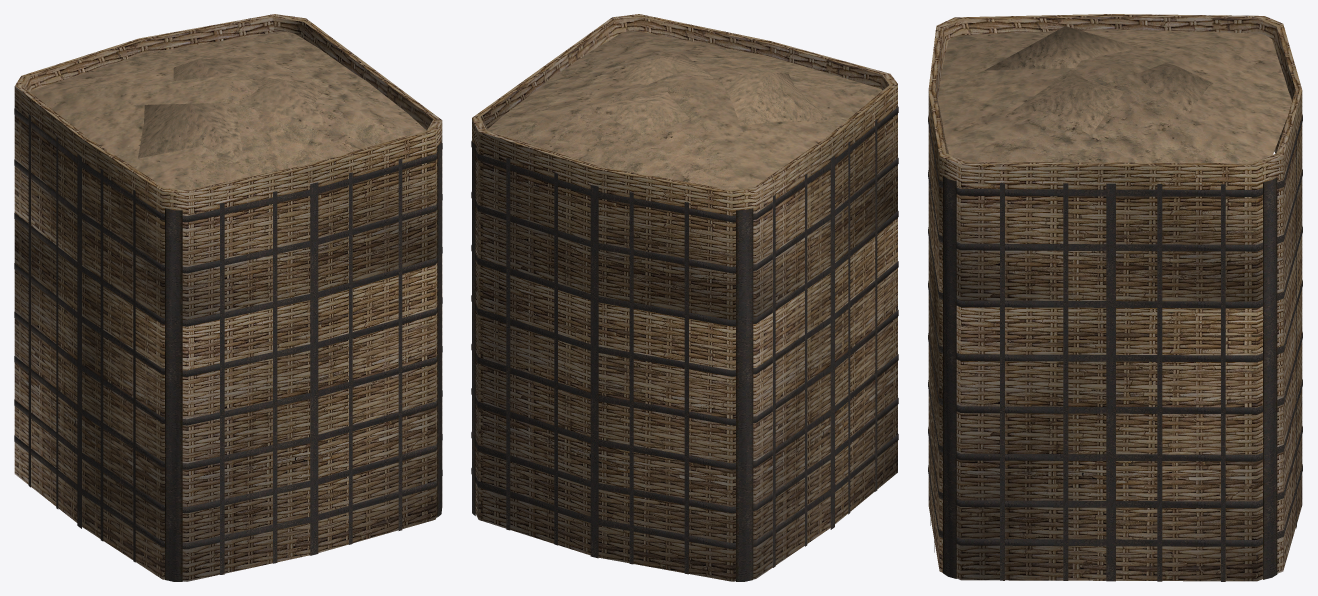
File: Cover_BcSd02.glb
3 views of the same model, side by side, from view 1: azimuth 30°, elevation 25°; view 2: azimuth 150°, elevation 25°; view 3: azimuth 270°, elevation 25° (orthographic). The views are drawn at different scales.
Parts seen in each view (by area): view 1: xiutz_bc_sd_02_0; view 2: xiutz_bc_sd_02_0; view 3: xiutz_bc_sd_02_0.
Boxes of the visible parts, x1,y1,x2,y2 form: xiutz_bc_sd_02_0: [14, 14, 442, 581]; xiutz_bc_sd_02_0: [471, 14, 898, 581]; xiutz_bc_sd_02_0: [928, 14, 1302, 581].
Size of the model in its own units: 2.12 by 2.88 by 2.19.
Materials: 2 (2 with a texture image).
